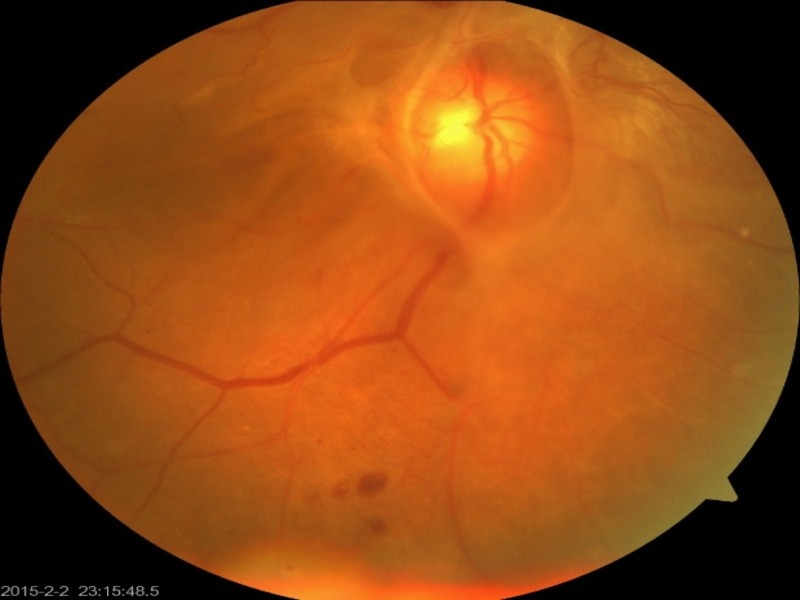Optic Cup: (433, 108, 470, 146)
Optic Disc: (407, 35, 572, 230)
